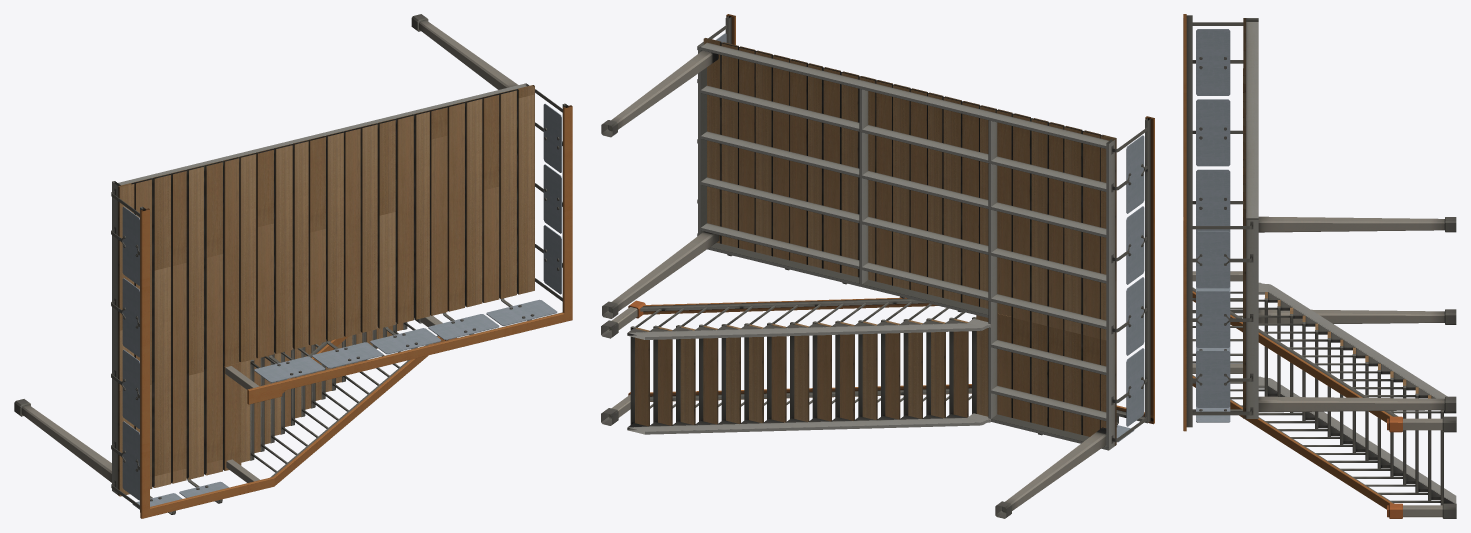
Rendered from nt_2020_house_01_balcony_LOD0.obj.
3 renders of one model, left to right at view 1: azimuth 30°, elevation 25°; view 2: azimuth 150°, elevation 25°; view 3: azimuth 270°, elevation 25°, orthographic.
Parts seen in each view (by area): view 1: mtl_nt_2020_house_01_balcony, glass_clear_mp_model; view 2: mtl_nt_2020_house_01_balcony, glass_clear_mp_model; view 3: mtl_nt_2020_house_01_balcony, glass_clear_mp_model.
Part boxes in pixels (left/top/right/bottom): mtl_nt_2020_house_01_balcony: left=14, top=14, right=572, bottom=518; glass_clear_mp_model: left=122, top=103, right=561, bottom=509; mtl_nt_2020_house_01_balcony: left=601, top=14, right=1154, bottom=518; glass_clear_mp_model: left=716, top=33, right=1144, bottom=442; mtl_nt_2020_house_01_balcony: left=1183, top=14, right=1456, bottom=518; glass_clear_mp_model: left=1196, top=29, right=1230, bottom=422.
Bounding box in the file's own units: 792 × 553 × 442.
